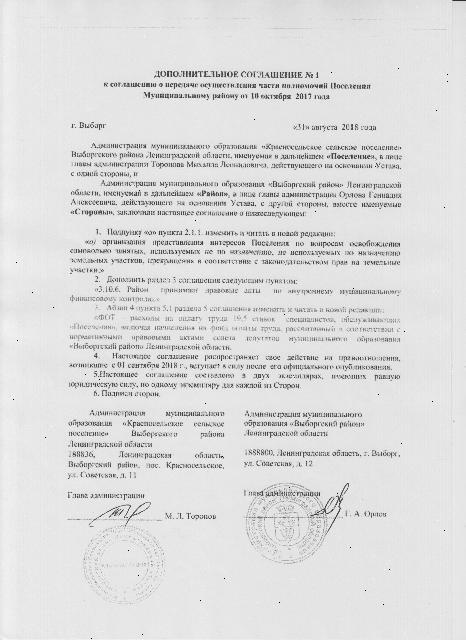stamp: (244, 482, 326, 564), (85, 526, 165, 610)
